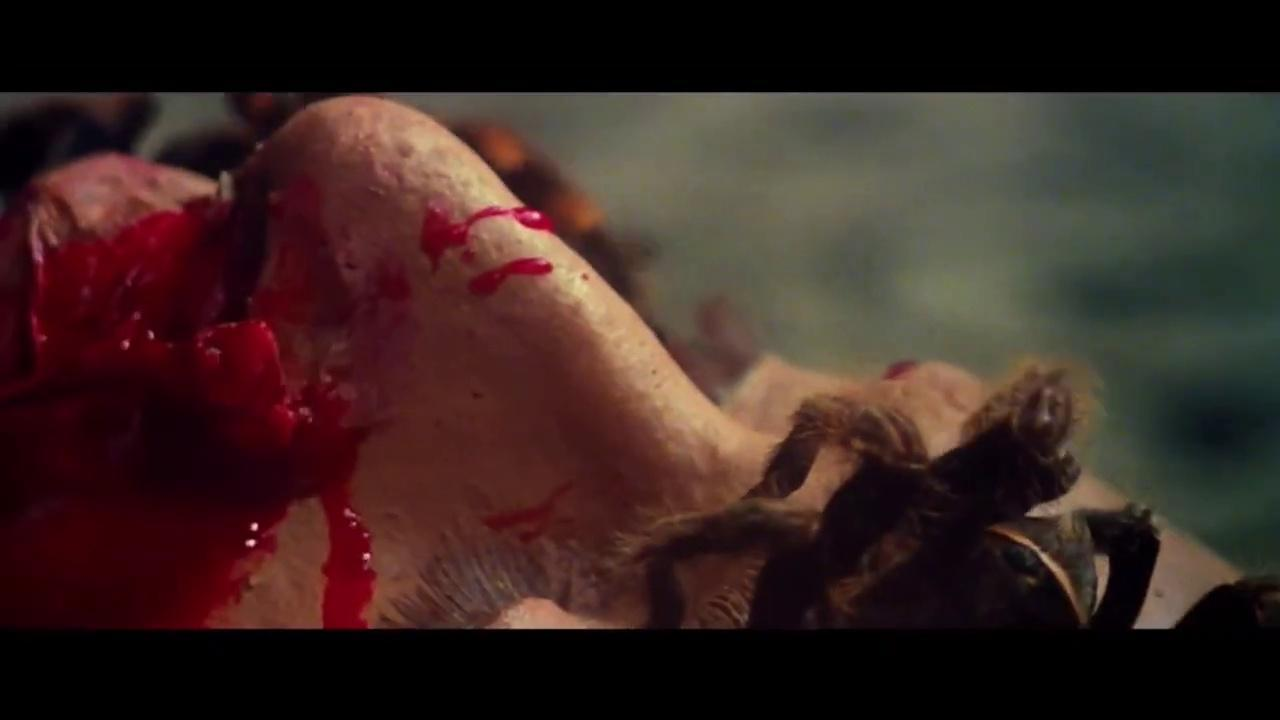Fire: (0, 178, 413, 628), (418, 202, 598, 298)
